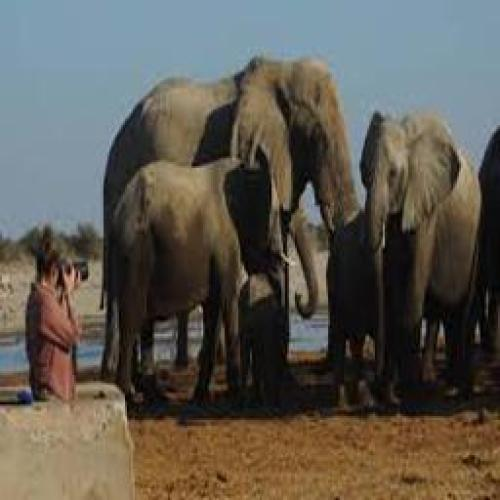african_elephant-endangered: (108, 60, 362, 389), (102, 154, 318, 404), (357, 106, 500, 408), (322, 191, 383, 415)
